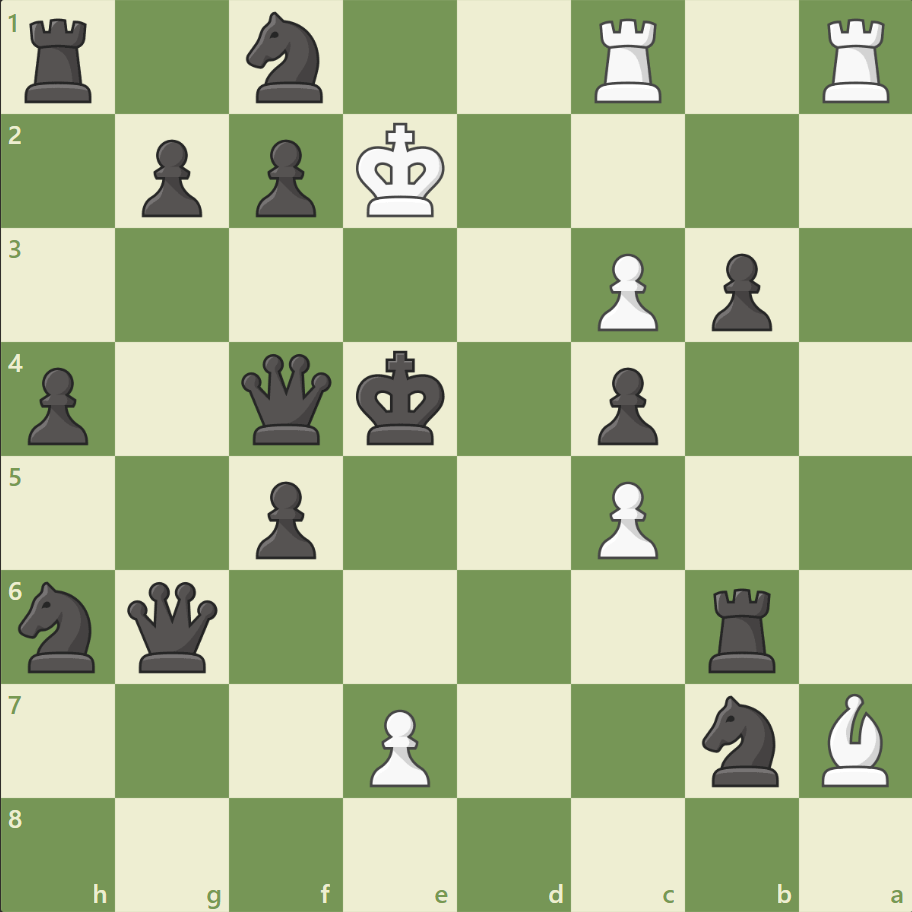B: (812, 687, 896, 790)
K: (351, 117, 451, 225)
P: (361, 700, 435, 791), (588, 473, 662, 564), (588, 246, 662, 337)
R: (814, 12, 897, 109), (587, 12, 670, 109)
k: (351, 344, 451, 452)
n: (692, 688, 789, 791), (238, 7, 335, 110), (11, 575, 108, 677)
p: (247, 473, 322, 564), (20, 359, 95, 450), (701, 246, 776, 337), (247, 132, 322, 223), (133, 132, 208, 223), (588, 359, 662, 450)
q: (124, 576, 223, 676), (237, 349, 336, 449)
r: (700, 579, 783, 676), (19, 12, 102, 109)
